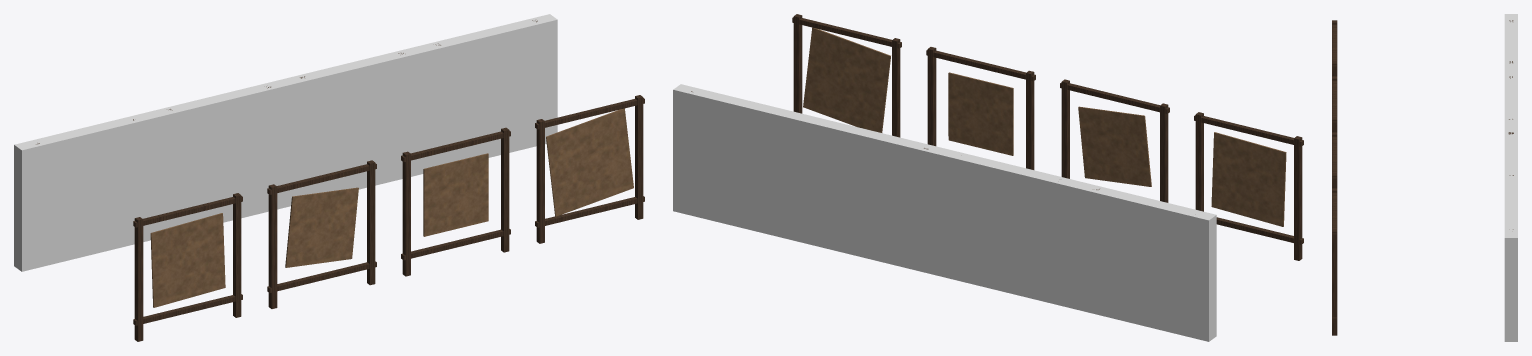
Rendered from tannery_racks.glb.
3 views of the same model, side by side, from view 1: azimuth 30°, elevation 25°; view 2: azimuth 150°, elevation 25°; view 3: azimuth 270°, elevation 25° (orthographic). The views are drawn at different scales.
Parts seen in each view (by area): view 1: Rack-convcolonly.001, Hides, Racks; view 2: Rack-convcolonly.001, Hides, Racks; view 3: Rack-convcolonly.001, Racks.
Boxes of the visible parts, left/top/right/bottom form: Rack-convcolonly.001: left=14, top=14, right=557, bottom=271; Hides: left=150, top=108, right=633, bottom=307; Racks: left=36, top=20, right=644, bottom=341; Rack-convcolonly.001: left=673, top=84, right=1216, bottom=341; Hides: left=803, top=27, right=1286, bottom=226; Racks: left=691, top=14, right=1303, bottom=260; Rack-convcolonly.001: left=1504, top=14, right=1517, bottom=341; Racks: left=1332, top=20, right=1513, bottom=335.
Size of what is drawn, in the model's own units: 12 by 2.6 by 4.21.
Materials: 2 (2 with a texture image).
